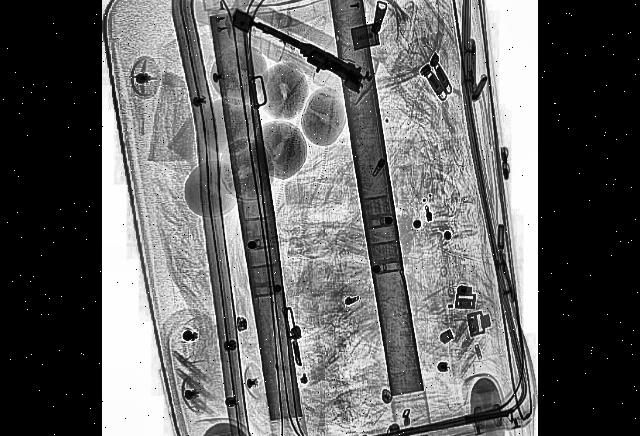Gun: (227, 0, 369, 103)
